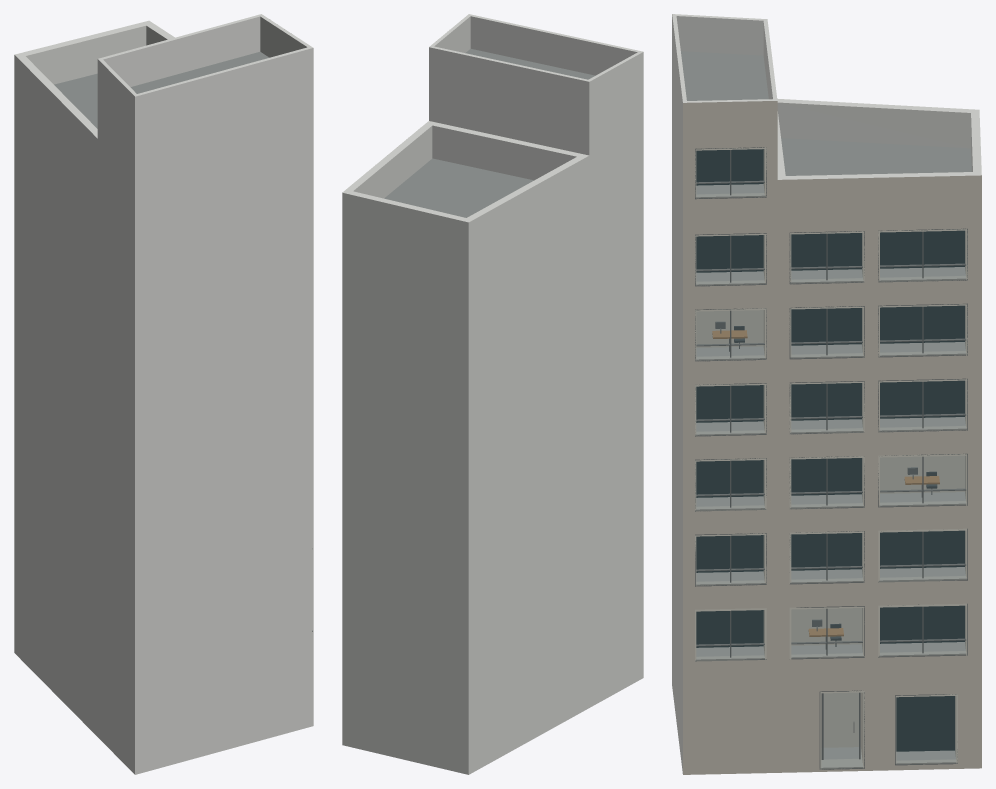
Rendered from d11-shared490491.glb.
3 views of the same model, side by side, from view 1: azimuth 30°, elevation 25°; view 2: azimuth 150°, elevation 25°; view 3: azimuth 270°, elevation 25° (orthographic). The views are drawn at different scales.
Visible parts, largest first — view 1: 05_MINIMAL_SOURCE_ROOF_FINISH_Pale mineral; view 2: 05_MINIMAL_SOURCE_ROOF_FINISH_Pale mineral; view 3: 05_MINIMAL_SOURCE_ROOF_FINISH_Pale mineral, 02_INFERRED_FRONT_WINDOWS_AND_FINISH_Clear glass.
Boxes of the visible parts, x1=… form: 05_MINIMAL_SOURCE_ROOF_FINISH_Pale mineral: x1=14, y1=14, x2=313, y2=774; 05_MINIMAL_SOURCE_ROOF_FINISH_Pale mineral: x1=342, y1=14, x2=643, y2=774; 05_MINIMAL_SOURCE_ROOF_FINISH_Pale mineral: x1=672, y1=14, x2=981, y2=774; 02_INFERRED_FRONT_WINDOWS_AND_FINISH_Clear glass: x1=697, y1=149, x2=965, y2=759.
Size of the model in its own units: 6.99 by 24.64 by 10.29.
Materials: 2 (1 with a texture image).
